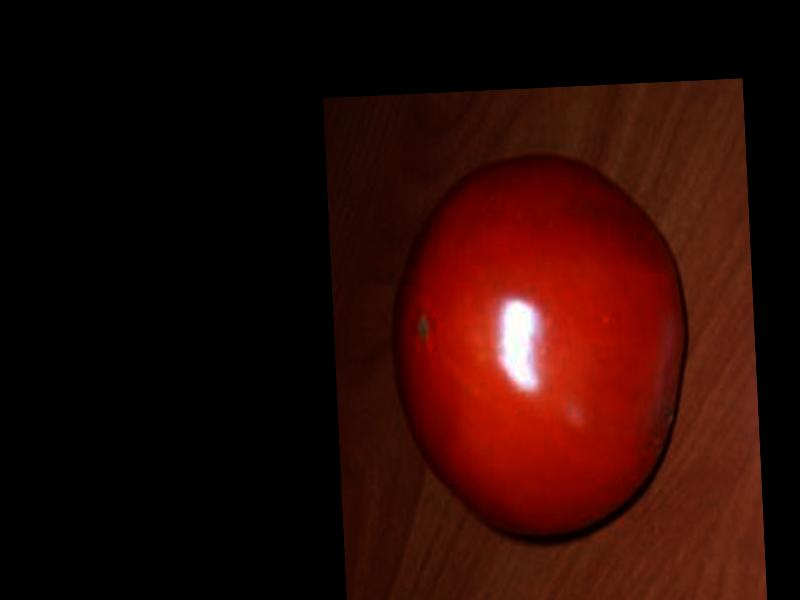Tomato: (382, 144, 694, 549)
